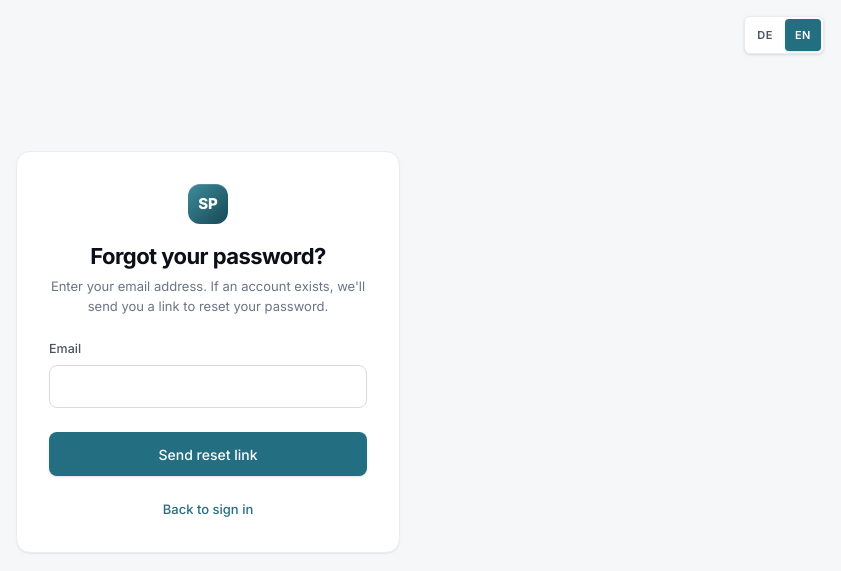
Test: ForgotPasswordPage › submits the address and shows the generic sent card
This screenshot has width=841, height=571.
Type "anna@schuler.de" into the field labelled "Email".
click(208, 387); type("anna@schuler.de")  # box [49,365,367,408]
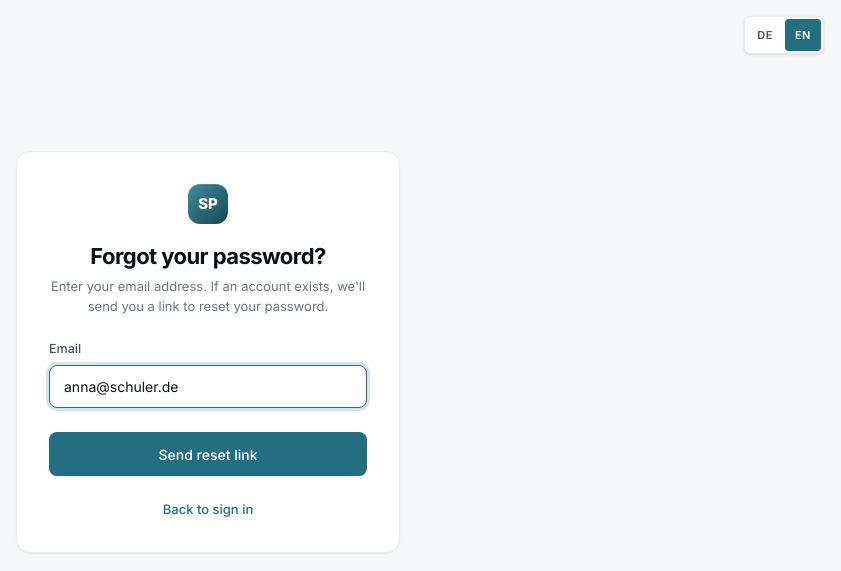
Click the button "Send reset link".
click(208, 454)  # box [49,432,367,476]
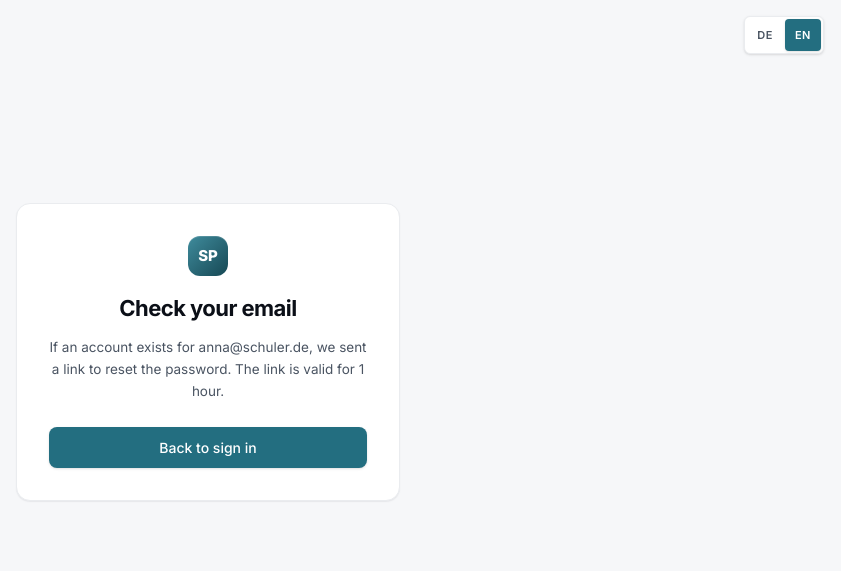
Expected: the heading "Check your email" is shown, [119,295,297,321]
Expected: the text "anna@schuler.de" is shown, [50,339,367,399]
